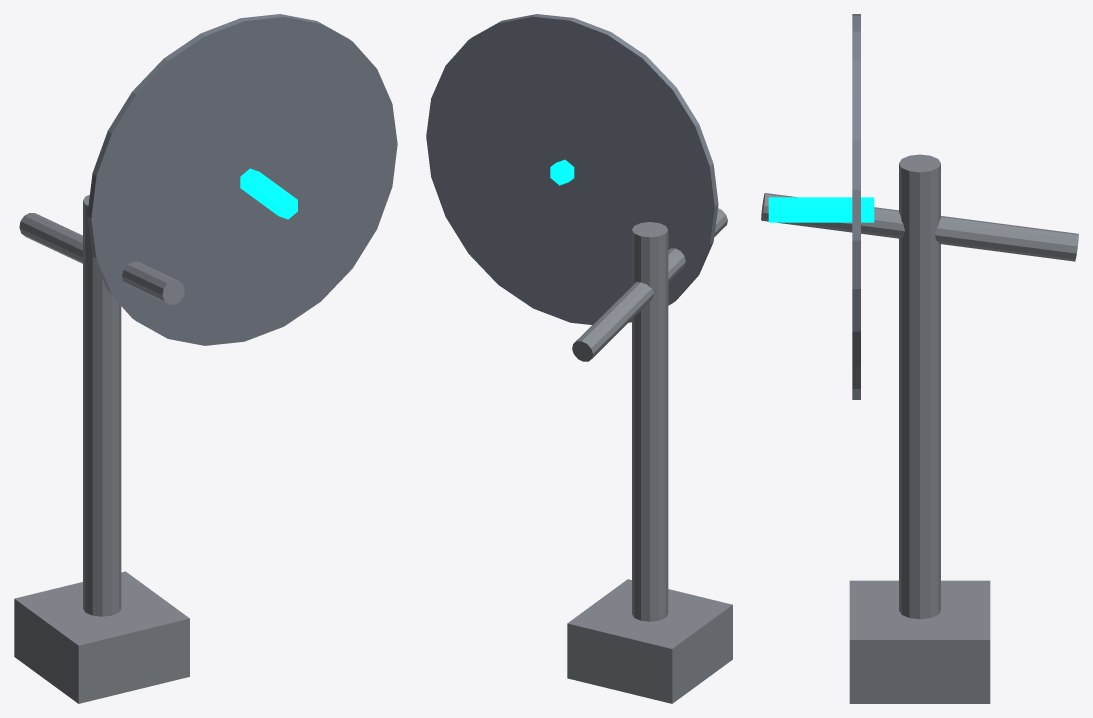
Rendered from DETAIL_Satellite_Dish_LG.glb.
3 views of the same model, side by side, from view 1: azimuth 30°, elevation 25°; view 2: azimuth 150°, elevation 25°; view 3: azimuth 270°, elevation 25° (orthographic). The views are drawn at different scales.
Visible parts, largest first — view 1: DETAIL_Satellite_Dish_LG; view 2: DETAIL_Satellite_Dish_LG; view 3: DETAIL_Satellite_Dish_LG.
Part boxes in pixels (x1,y1,x2,y2): DETAIL_Satellite_Dish_LG: [14, 14, 397, 703]; DETAIL_Satellite_Dish_LG: [426, 14, 732, 703]; DETAIL_Satellite_Dish_LG: [761, 14, 1078, 703].
Size of the model in its own units: 1.15 by 2.2 by 0.9022.
